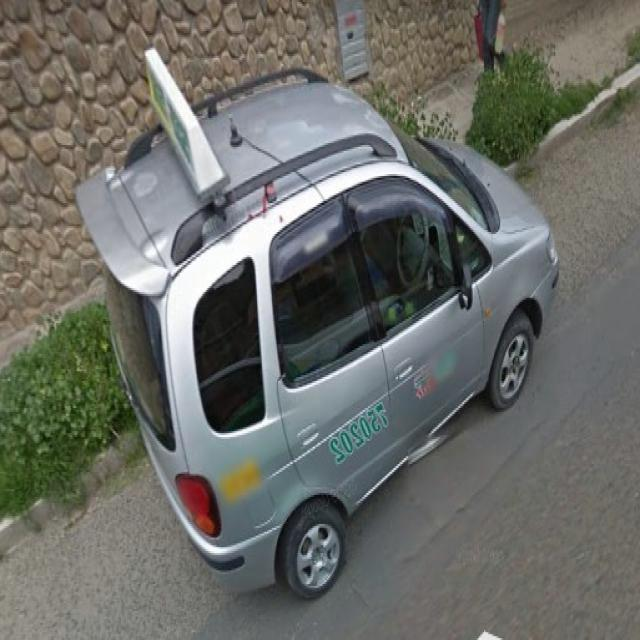Car: (86, 21, 554, 598)
